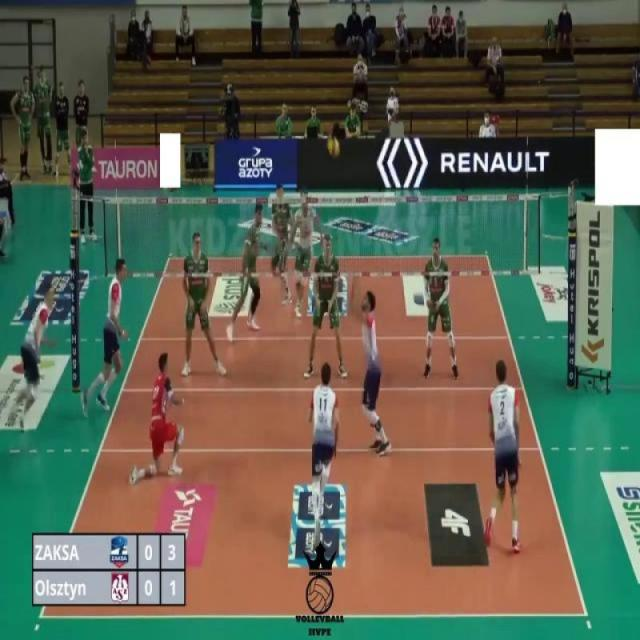volleyball: (327, 134, 340, 158)
